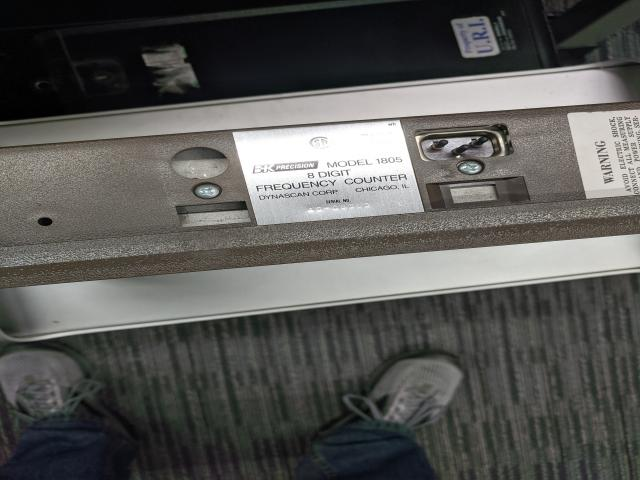CRS: (191, 182, 225, 199), (460, 159, 486, 177)
